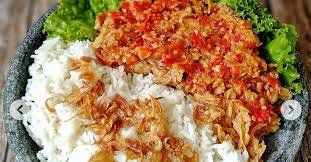ayam_geprek: (97, 3, 289, 140)
